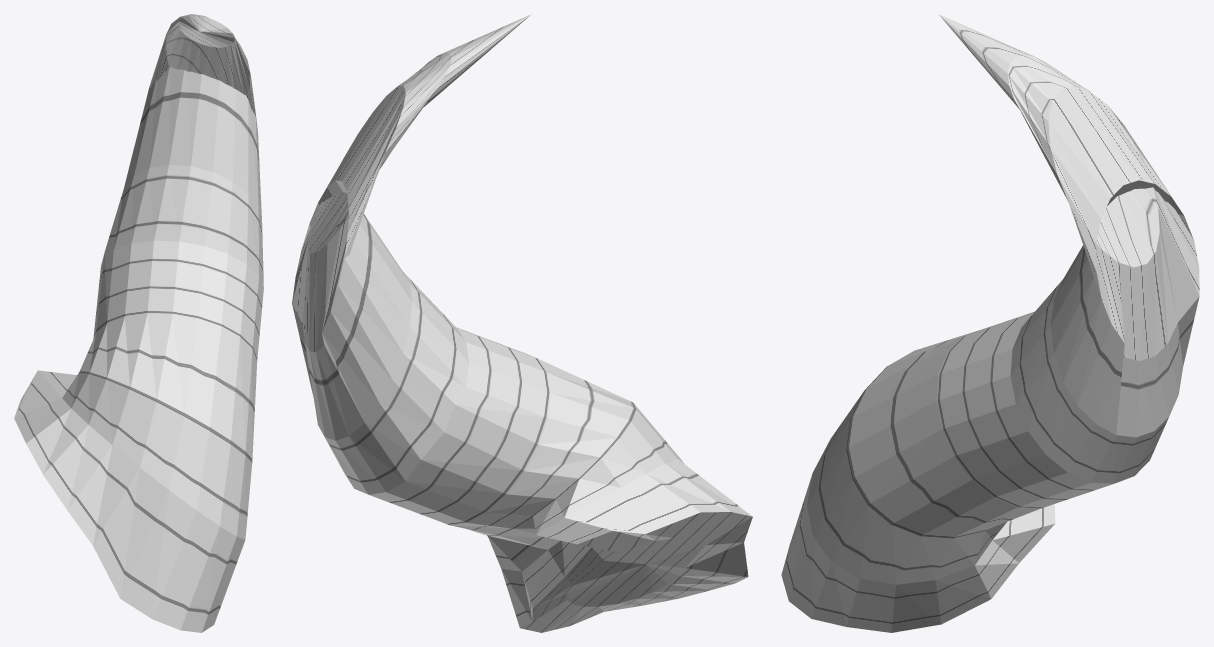
File: hat_1__Object_1.glb
The picture shows the model from 3 angles, left to right: view 1: azimuth 30°, elevation 25°; view 2: azimuth 150°, elevation 25°; view 3: azimuth 270°, elevation 25°; orthographic projection. The views are drawn at different scales.
Parts seen in each view (by area): view 1: geometry_0; view 2: geometry_0; view 3: geometry_0.
Part boxes in pixels (x1=…): geometry_0: x1=14, y1=14, x2=263, y2=632; geometry_0: x1=292, y1=14, x2=752, y2=632; geometry_0: x1=781, y1=14, x2=1199, y2=632.
Bounding box in the file's own units: 0.5548 × 0.9778 × 0.5904.
1 material, 1 textured.
